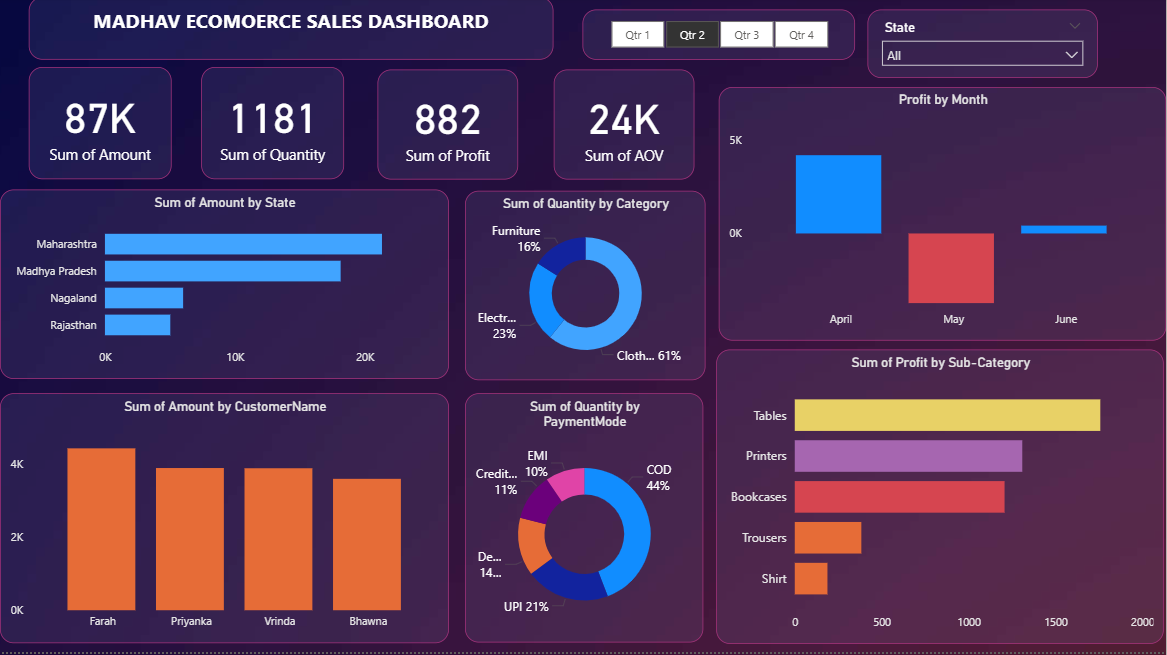

Layout of this report page (visuals, bound fields, positions):
{"tool":"powerbi","page":{"name":"Page 1","canvas":[1280,720],"ordinal":0},"visuals":[{"type":"columnChart","title":" Profit by Month","fields":{"Category":["Orders.Order Date.Variation.Date Hierarchy.Month"],"Y":["Sum(Details.Profit)"]},"box":[789,98.8,491.3,278.6],"z":0},{"type":"barChart","fields":{"Category":["Details.Sub-Category"],"Y":["Sum(Details.Profit)"]},"box":[786.3,386.4,491.6,322.8],"z":1000},{"type":"donutChart","fields":{"Category":["Details.Category"],"Y":["Sum(Details.Quantity)"]},"box":[511.1,212.8,264.1,207.9],"z":2000},{"type":"textbox","box":[31.6,0,576.3,68.6],"z":3000},{"type":"donutChart","fields":{"Category":["Details.PaymentMode"],"Y":["Sum(Details.Quantity)"]},"box":[511.1,435.3,261.7,273.9],"z":4000},{"type":"card","fields":{"Values":["Sum(Details.Amount)"]},"box":[31.6,76.8,156.4,123.5],"z":5000},{"type":"card","fields":{"Values":["Sum(Details.Quantity)"]},"box":[220.9,76.8,156.4,123.5],"z":6000},{"type":"card","fields":{"Values":["Sum(Details.Profit)"]},"box":[414.5,79.5,154.1,121.1],"z":7000},{"type":"card","fields":{"Values":["Sum(Details.AOV)"]},"box":[607.7,79.5,154.1,121.1],"z":8000},{"type":"barChart","fields":{"Category":["Orders.State"],"Y":["Sum(Details.Amount)"]},"box":[0,211.7,492.6,207.6],"z":9000},{"type":"columnChart","fields":{"Category":["Orders.CustomerName"],"Y":["Sum(Details.Amount)"]},"box":[0,435,493,274],"z":10000},{"type":"slicer","fields":{"Values":["Orders.Order Date.Variation.Date Hierarchy.Quarter"]},"box":[639.5,13.7,299.1,54.9],"z":11000},{"type":"slicer","fields":{"Values":["Orders.State"]},"box":[952.3,13.7,252.5,75.5],"z":12000}]}

Visuals, with their boxes in screenshot pixels (x1, y1, x2, y2), scaled from the page's 1280x720 canvas onto the 1167x655 screenshot:
" Profit by Month" columnChart: detection(719, 90, 1166, 343)
barChart - Details.Sub-Category x Sum(Details.Profit): detection(717, 352, 1165, 645)
donutChart - Details.Category x Sum(Details.Quantity): detection(466, 194, 707, 383)
textbox: detection(29, 0, 554, 62)
donutChart - Details.PaymentMode x Sum(Details.Quantity): detection(466, 396, 705, 645)
card - Sum(Details.Amount): detection(29, 70, 171, 182)
card - Sum(Details.Quantity): detection(201, 70, 344, 182)
card - Sum(Details.Profit): detection(378, 72, 518, 182)
card - Sum(Details.AOV): detection(554, 72, 695, 182)
barChart - Orders.State x Sum(Details.Amount): detection(0, 193, 449, 381)
columnChart - Orders.CustomerName x Sum(Details.Amount): detection(0, 396, 449, 645)
slicer - Orders.Order Date.Variation.Date Hierarchy.Quarter: detection(583, 12, 856, 62)
slicer - Orders.State: detection(868, 12, 1098, 81)
